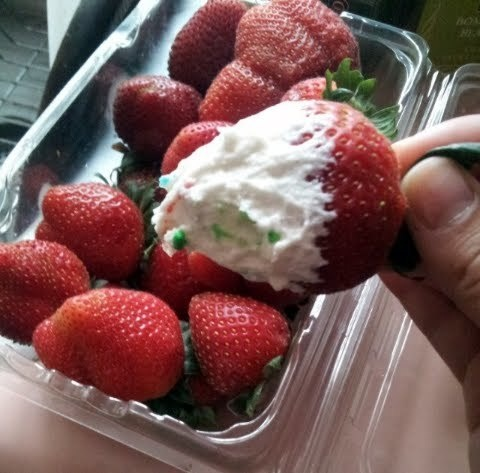background: (0, 0, 307, 316)
